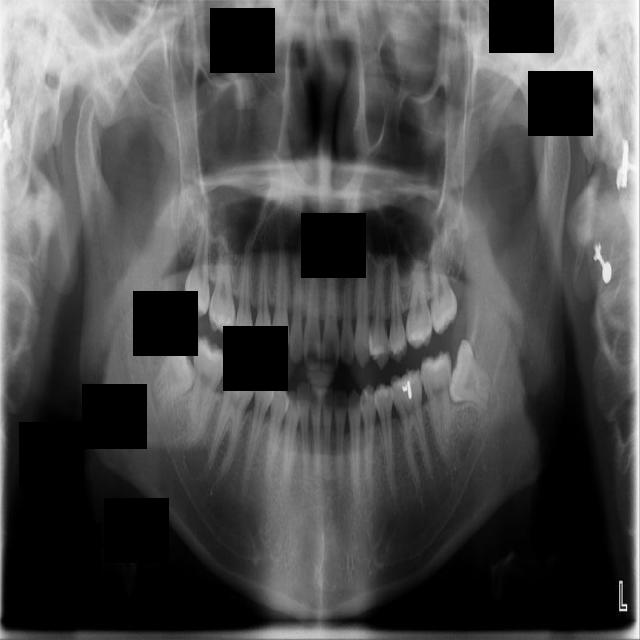52: (383, 365, 429, 408)
73: (590, 561, 592, 567)
BioHorizons Implant: (428, 235, 458, 334)
Biomet 3i Implant: (448, 338, 494, 409)
Blue Sky Bio Implant: (419, 348, 452, 463)
Caries: (184, 207, 211, 320)
Implant: (188, 335, 228, 438)
Keystone Dental Implant: (146, 327, 210, 416)
